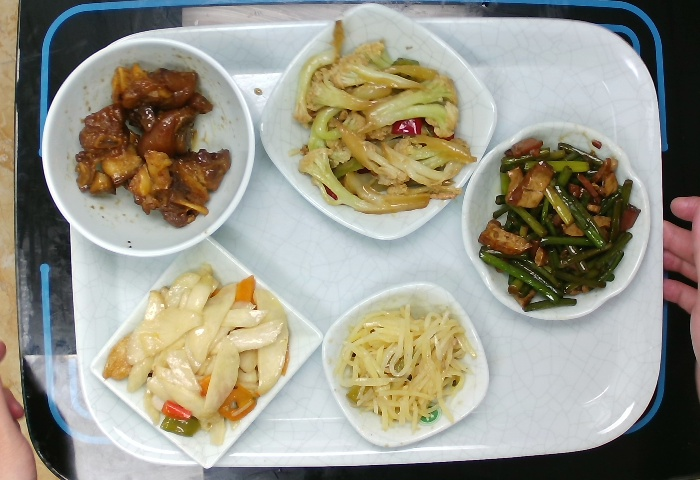JYsf-Ao_Yuan_Wan: (460, 113, 657, 324)
JYsf-Fan_Wan: (35, 34, 260, 261)
JYsf-Si_Fang_Die: (318, 277, 488, 450)
WCQzf-Da_Si_Fang_Die: (259, 1, 502, 244)
WCQzf-Ru_Ci_Si_Fang_Die: (84, 232, 325, 476)
